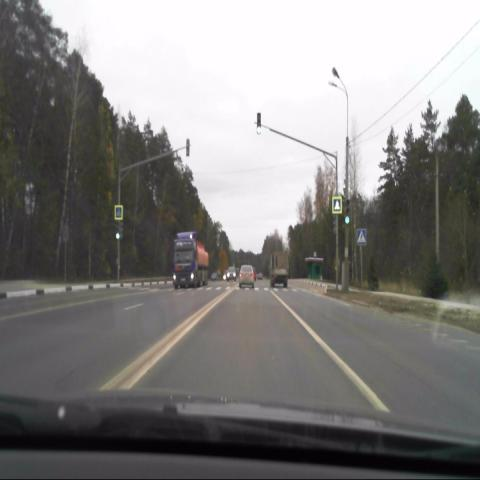5_19_1: (332, 196, 342, 214), (356, 228, 366, 245), (114, 204, 123, 221)
